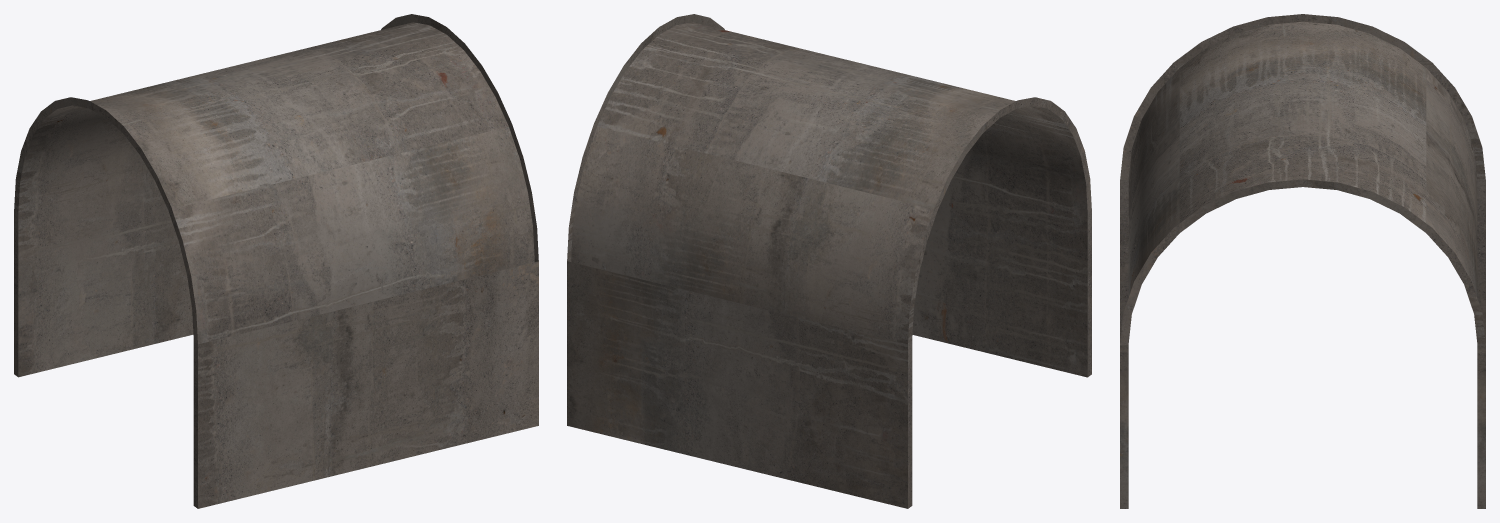
File: ArchWall.fbx
3 renders of one model, left to right at view 1: azimuth 30°, elevation 25°; view 2: azimuth 150°, elevation 25°; view 3: azimuth 270°, elevation 25°, orthographic.
Visible parts, largest first — view 1: aRCwALL; view 2: aRCwALL; view 3: aRCwALL.
Boxes of the visible parts, box(x1,y1,x2,y2) form: aRCwALL: box(14, 14, 538, 508); aRCwALL: box(567, 14, 1091, 508); aRCwALL: box(1120, 14, 1485, 508).
Size of the model in its own units: 403 by 374 by 376.
Materials: 1 (1 with a texture image).
